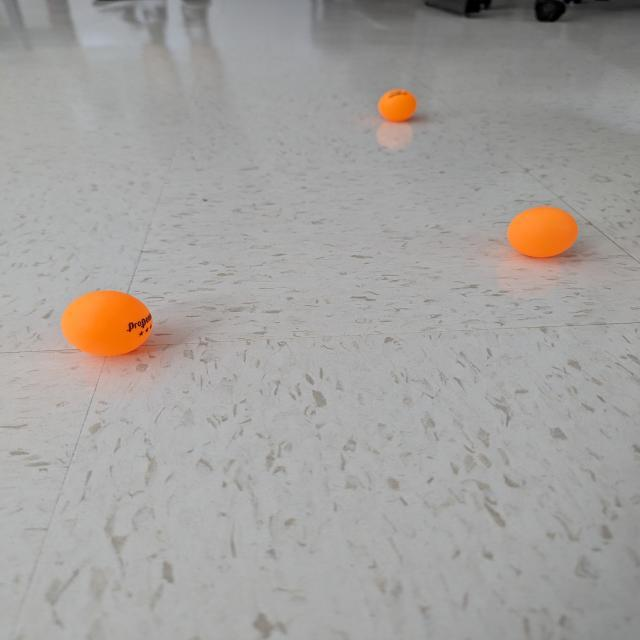ping-pong-ball: (56, 287, 158, 358), (504, 202, 582, 260), (375, 86, 423, 126)
